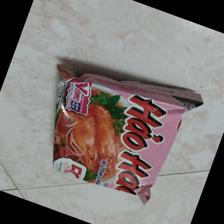Haohao: (53, 62, 205, 207)
